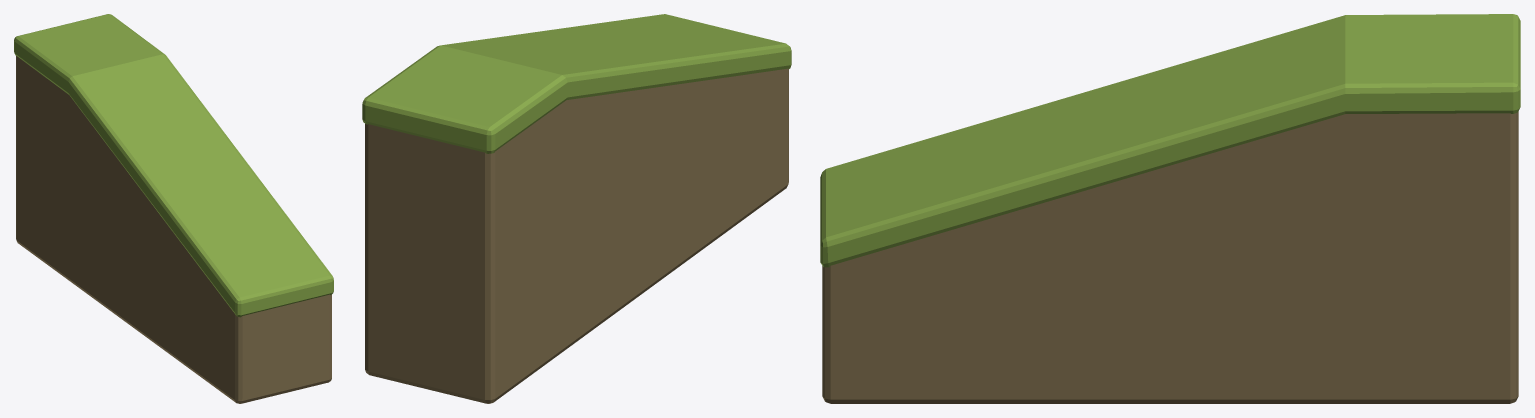
The model's file is SM_Platform_1m_04_A_Ramp.fbx.
3 renders of one model, left to right at view 1: azimuth 30°, elevation 25°; view 2: azimuth 150°, elevation 25°; view 3: azimuth 270°, elevation 25°, orthographic. The views are drawn at different scales.
Parts seen in each view (by area): view 1: polySurface75; view 2: polySurface75; view 3: polySurface75.
Boxes of the visible parts, x1,y1,x2,y2 form: polySurface75: [14, 14, 333, 403]; polySurface75: [362, 14, 791, 403]; polySurface75: [820, 14, 1520, 403].
Bounding box in the file's own units: 102 × 205 × 403.
